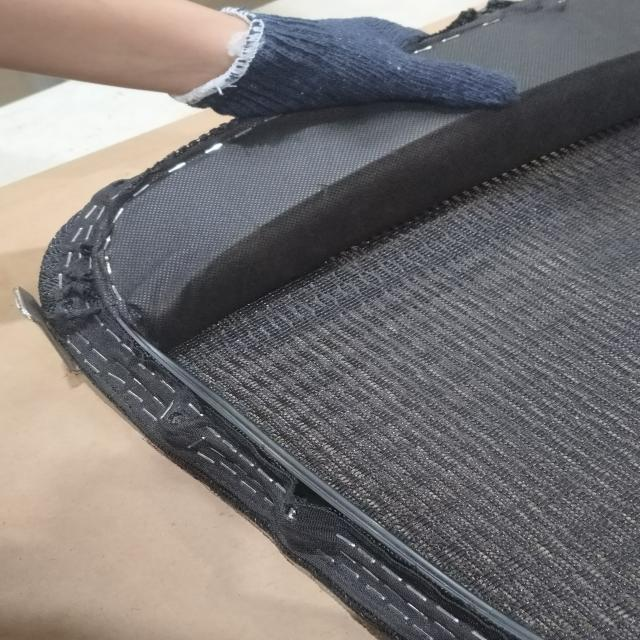Gloves-Detection: (229, 9, 523, 123)
